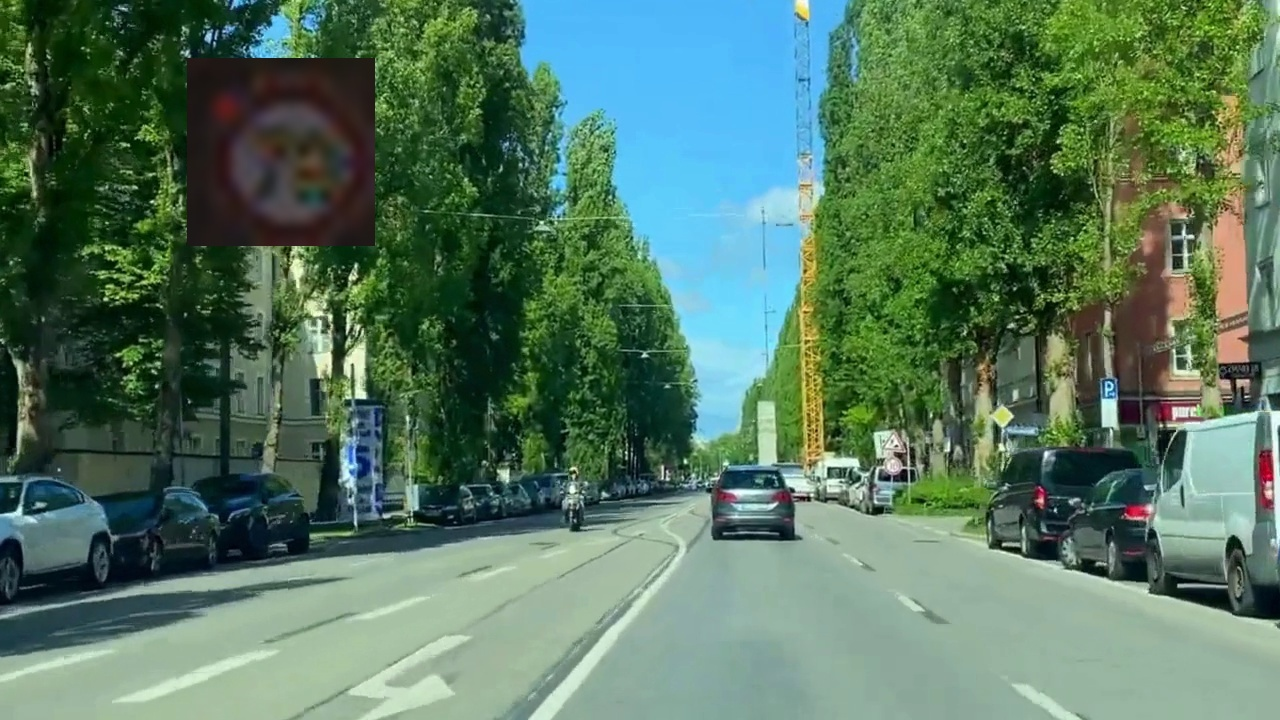Speed 70: (187, 58, 375, 246)
